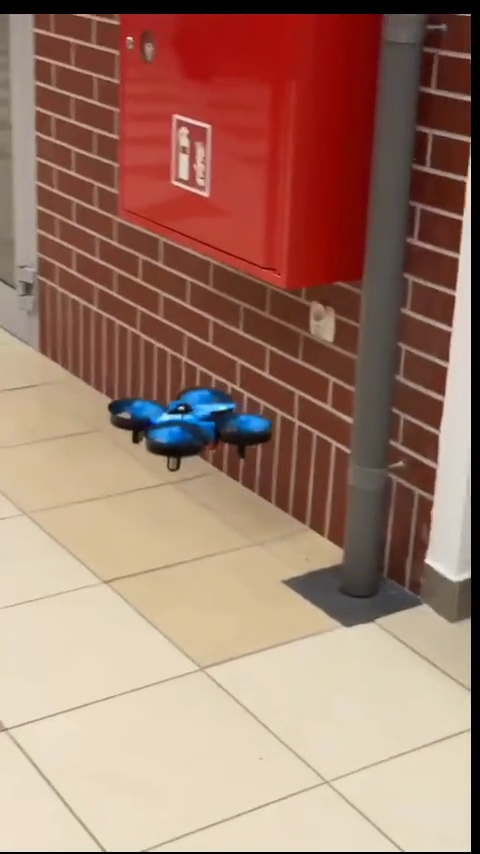drone: (102, 377, 275, 476)
